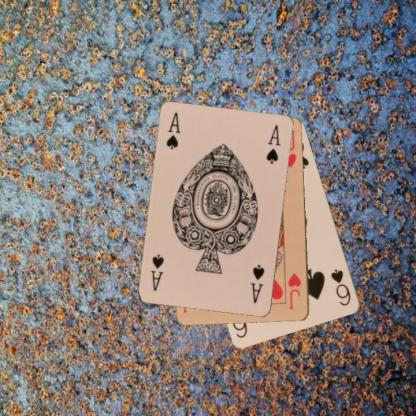6s: (328, 266, 353, 308)
As: (248, 262, 266, 304), (164, 110, 182, 151)
Jh: (285, 270, 303, 311)
